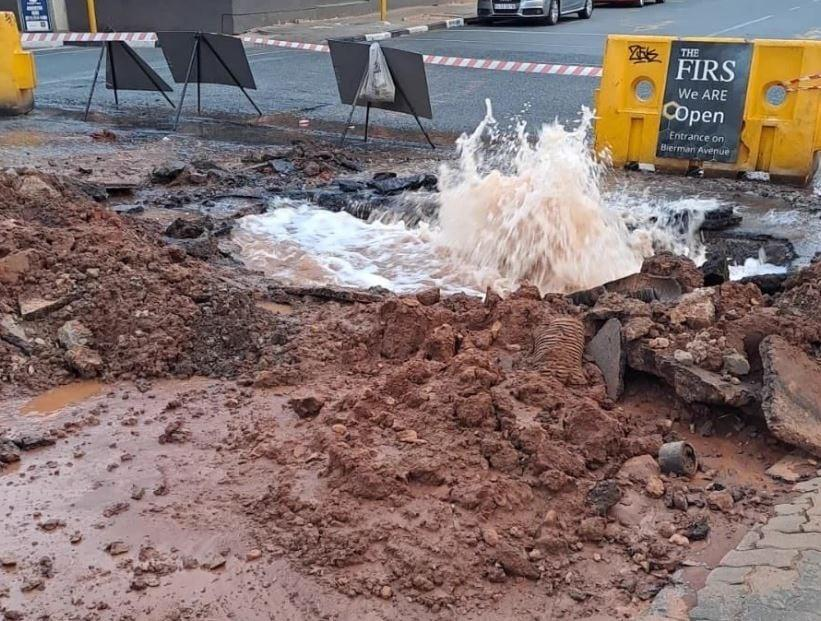water_leak: (396, 96, 644, 294)
